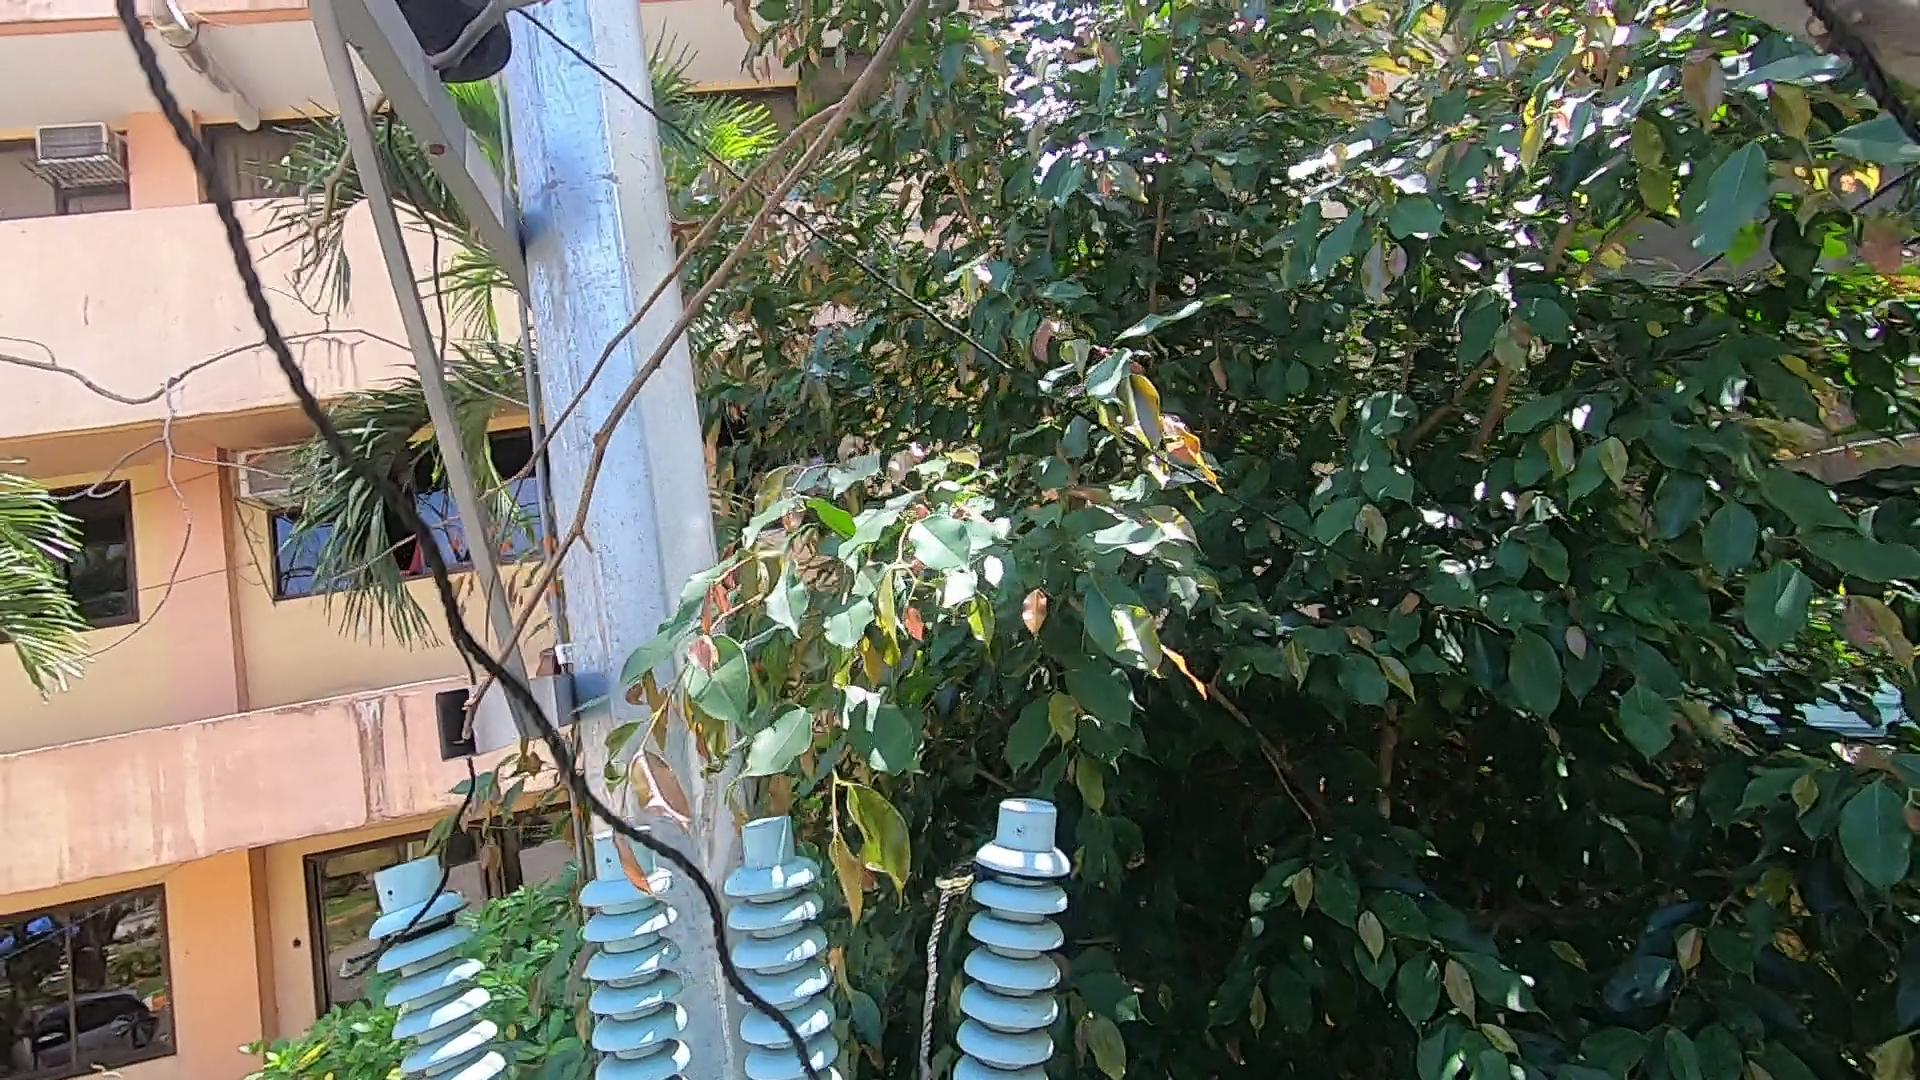branch with leaves: (820, 785, 922, 936), (578, 761, 694, 891)
tree branch: (314, 11, 1004, 756)
